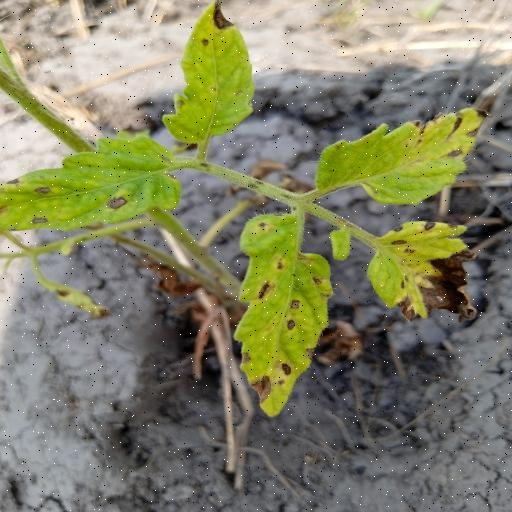Tomato_Brown_Spots: (229, 208, 334, 420), (0, 130, 189, 236), (308, 104, 498, 206), (161, 0, 261, 148), (365, 219, 479, 326)
